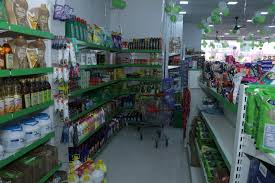saffola: (0, 0, 53, 78), (0, 82, 50, 122)
